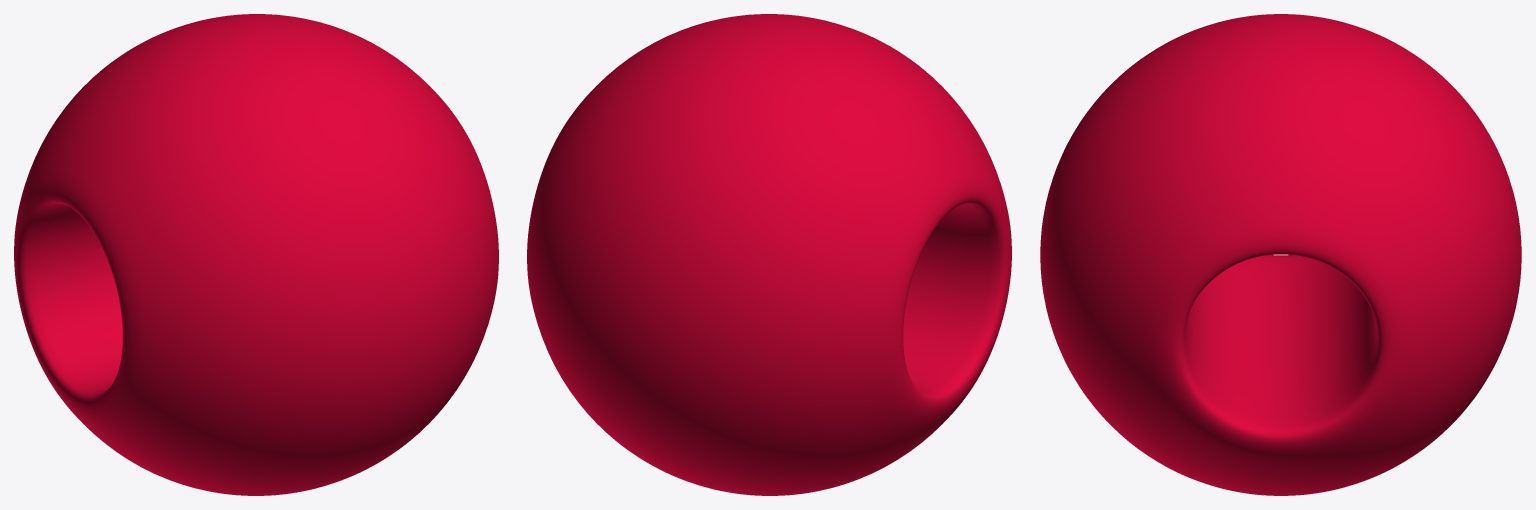
The picture shows the model from 3 angles, left to right: view 1: azimuth 30°, elevation 25°; view 2: azimuth 150°, elevation 25°; view 3: azimuth 270°, elevation 25°; orthographic projection.
Visible parts, largest first — view 1: red1; view 2: red1; view 3: red1.
Boxes of the visible parts, box(x1,y1,x2,y2) form: red1: box(14, 14, 498, 495); red1: box(527, 14, 1011, 495); red1: box(1040, 14, 1521, 495).
Size of the model in its own units: 1.75 by 1.97 by 1.97.
